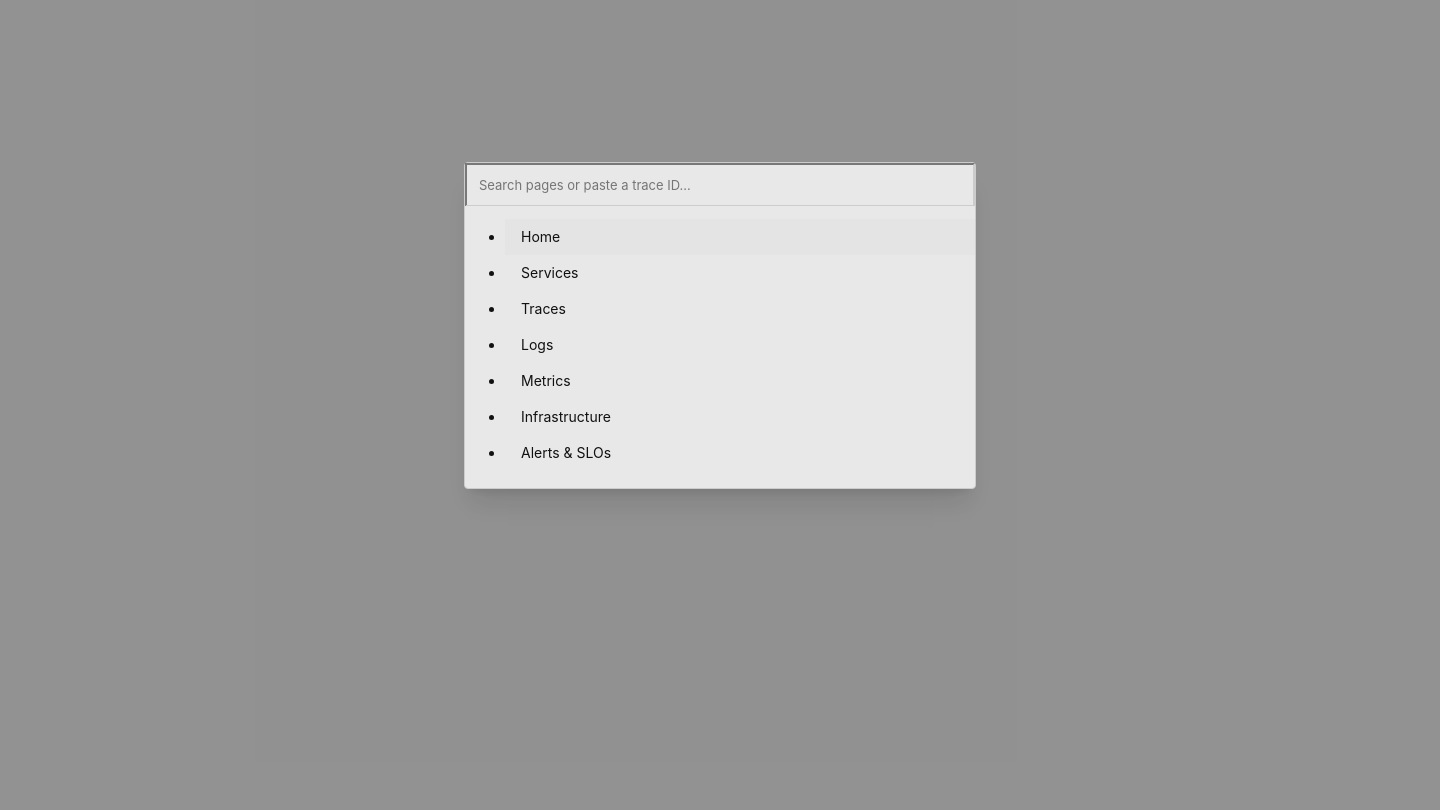
Scenario: shows 'No results' when input matches nothing
This screenshot has width=1440, height=810.
In the dropdown: (720, 184) [465,163,975,206], type "zzzzzzzzzzzzz"
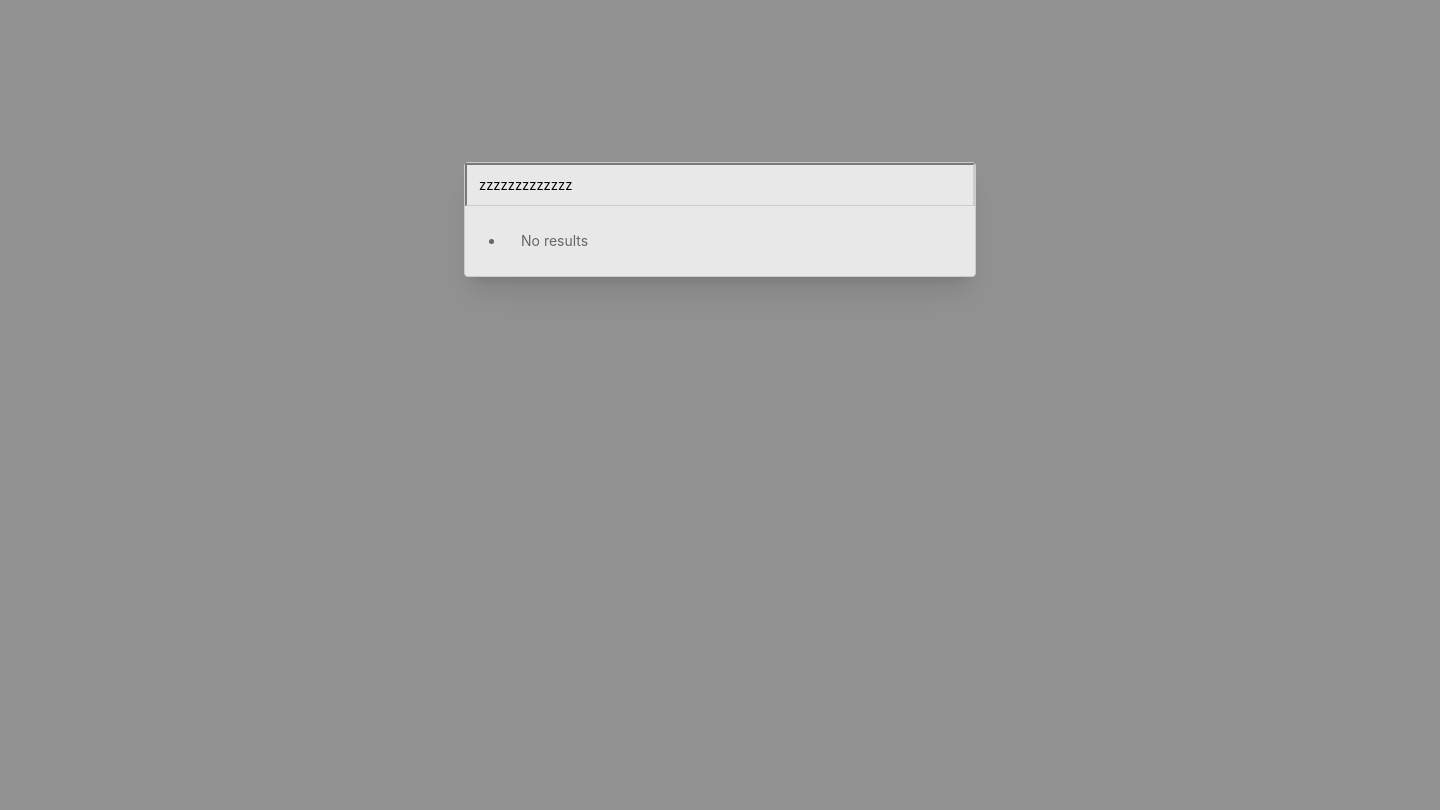
Expected: the list item "No results" is shown, [521,232,588,249]
